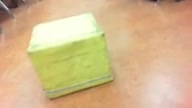cube: (26, 12, 113, 99)
